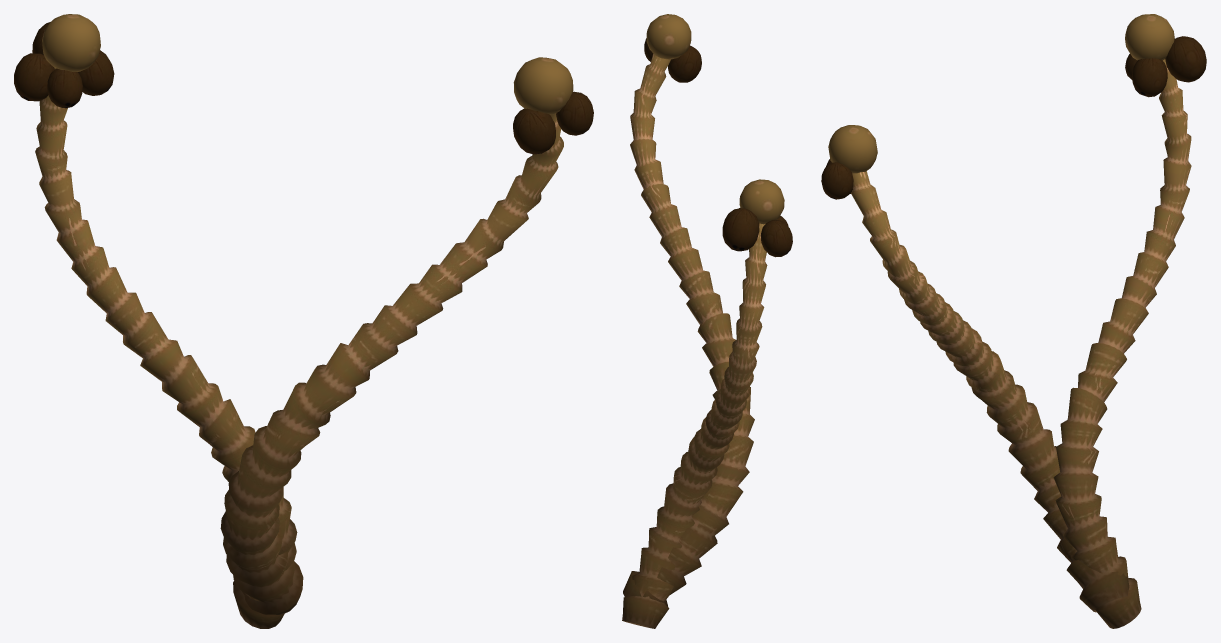
Rendered from palm-set.glb.
3 views of the same model, side by side, from view 1: azimuth 30°, elevation 25°; view 2: azimuth 150°, elevation 25°; view 3: azimuth 270°, elevation 25° (orthographic). The views are drawn at different scales.
Visible parts, largest first — view 1: PalmTreeSet_LP.024, PalmTreeSet_LP.020; view 2: PalmTreeSet_LP.024, PalmTreeSet_LP.020; view 3: PalmTreeSet_LP.020, PalmTreeSet_LP.024.
Boxes of the visible parts, x1=… form: PalmTreeSet_LP.024: x1=220, y1=57, x2=593, y2=615; PalmTreeSet_LP.020: x1=14, y1=14, x2=297, y2=628; PalmTreeSet_LP.024: x1=623, y1=14, x2=754, y2=606; PalmTreeSet_LP.020: x1=622, y1=179, x2=792, y2=628; PalmTreeSet_LP.020: x1=1053, y1=14, x2=1206, y2=628; PalmTreeSet_LP.024: x1=821, y1=125, x2=1129, y2=612.
Size of the model in its own units: 442 by 720 by 458.
2 materials, 1 textured.
